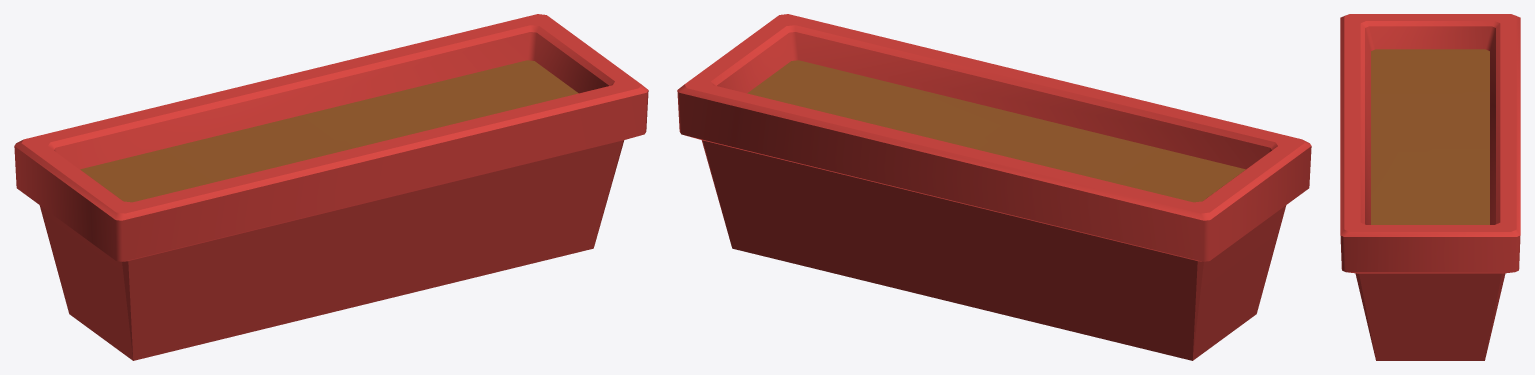
Rendered from PlantPot_3_F.fbx.
The picture shows the model from 3 angles, left to right: view 1: azimuth 30°, elevation 25°; view 2: azimuth 150°, elevation 25°; view 3: azimuth 270°, elevation 25°; orthographic projection. The views are drawn at different scales.
Visible parts, largest first — view 1: PlantPot_3_F; view 2: PlantPot_3_F; view 3: PlantPot_3_F.
Boxes of the visible parts, x1,y1,x2,y2 form: PlantPot_3_F: (14, 14, 648, 360); PlantPot_3_F: (677, 14, 1311, 360); PlantPot_3_F: (1340, 14, 1520, 360).
Size of the model in its own units: 79.88 by 24 by 27.48.
